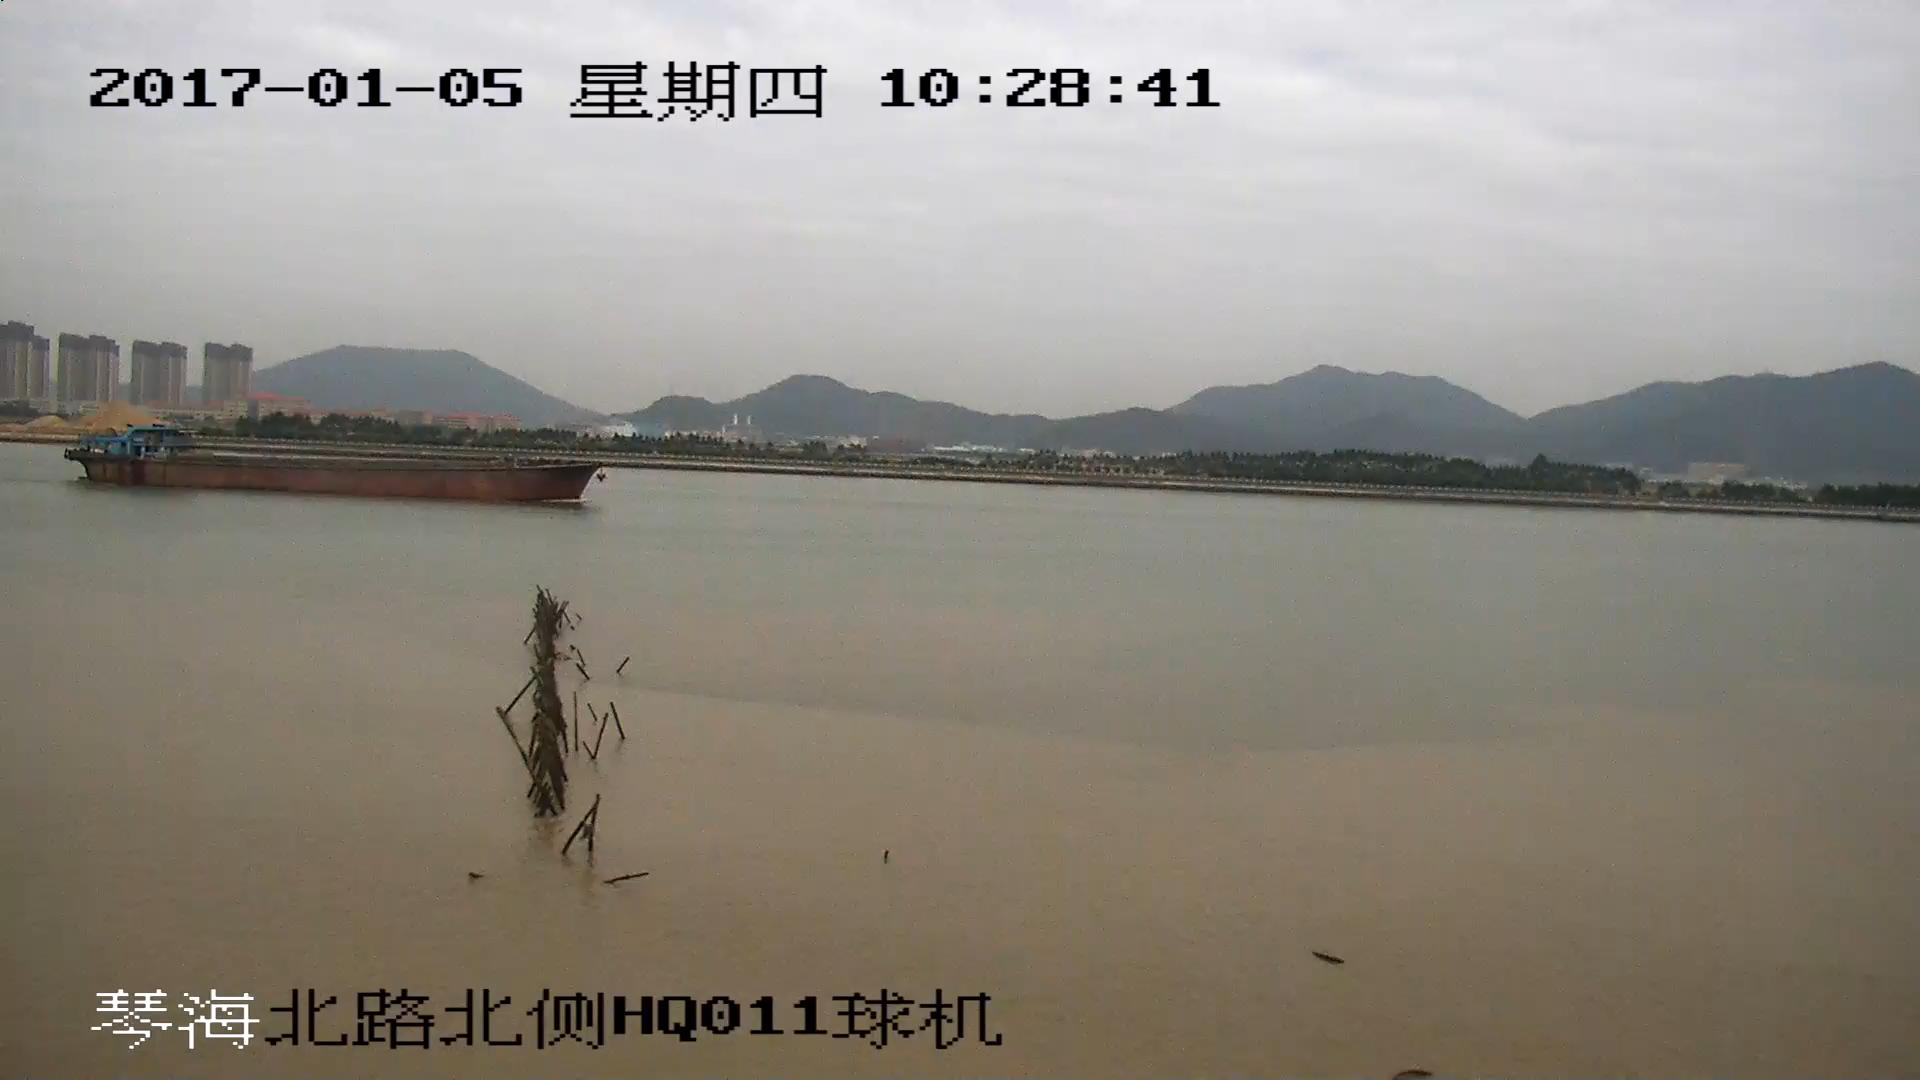bulk cargo carrier: (65, 424, 603, 501)
